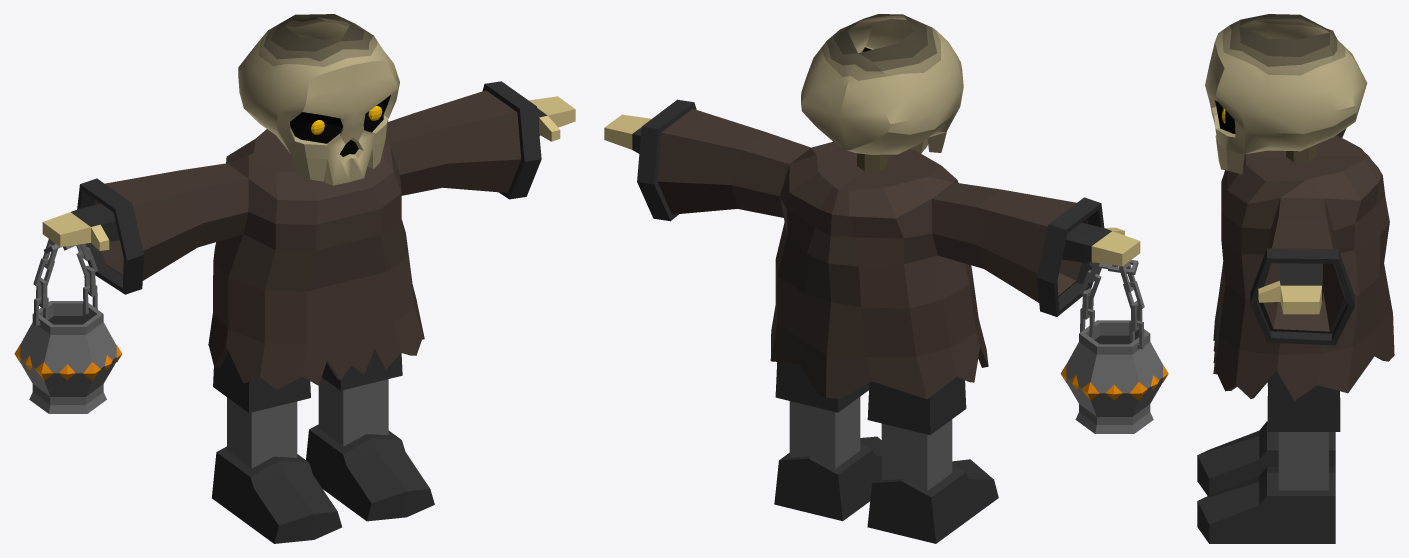
The model's file is IncensarioCompleto.fbx.
The picture shows the model from 3 angles, left to right: view 1: azimuth 30°, elevation 25°; view 2: azimuth 150°, elevation 25°; view 3: azimuth 270°, elevation 25°; orthographic projection.
Visible parts, largest first — view 1: Plane.013, head.001, feet.002, feet.003, Cylinder.003, Cube.008; view 2: Plane.013, head.001, feet.003, feet.002, Cylinder.003, Cube.008; view 3: Plane.013, head.001, feet.002, feet.003, Cube.008, Cylinder.002.
Part boxes in pixels (x1=…): Plane.013: x1=77, y1=81, x2=541, y2=389; head.001: x1=238, y1=14, x2=399, y2=185; feet.002: x1=212, y1=424, x2=434, y2=543; feet.003: x1=213, y1=351, x2=402, y2=468; Cylinder.003: x1=20, y1=301, x2=116, y2=413; Cube.008: x1=42, y1=96, x2=575, y2=250; Plane.013: x1=637, y1=99, x2=1104, y2=399; head.001: x1=801, y1=14, x2=963, y2=154; feet.003: x1=775, y1=362, x2=966, y2=490; feet.002: x1=774, y1=436, x2=998, y2=543; Cylinder.003: x1=1066, y1=320, x2=1162, y2=433; Cube.008: x1=604, y1=114, x2=1140, y2=266; Plane.013: x1=1213, y1=128, x2=1394, y2=400; head.001: x1=1205, y1=14, x2=1367, y2=174; feet.002: x1=1197, y1=421, x2=1335, y2=543; feet.003: x1=1267, y1=371, x2=1340, y2=490; Cube.008: x1=1258, y1=263, x2=1322, y2=314; Cylinder.002: x1=1286, y1=144, x2=1316, y2=162.
Size of the model in its own units: 1.85 by 0.5751 by 1.54.
4 materials, 2 textured.
